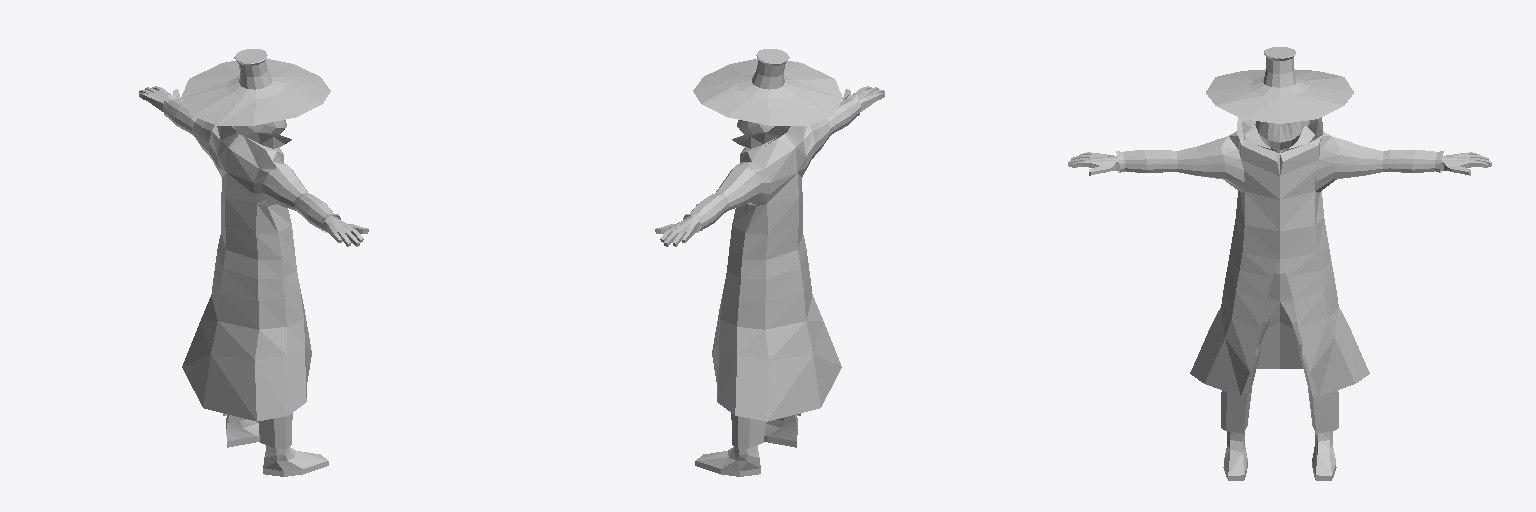
The model's file is lantern_character_1.obj.
3 views of the same model, side by side, from view 1: azimuth 30°, elevation 25°; view 2: azimuth 150°, elevation 25°; view 3: azimuth 270°, elevation 25° (orthographic).
Visible parts, largest first — view 1: Lantern.001; view 2: Lantern.001; view 3: Lantern.001.
Boxes of the visible parts, box(x1,y1,x2,y2) form: Lantern.001: box(139, 49, 368, 476); Lantern.001: box(655, 49, 884, 476); Lantern.001: box(1068, 47, 1491, 480).
Bounding box in the file's own units: 0.8358 × 2.5 × 2.37.